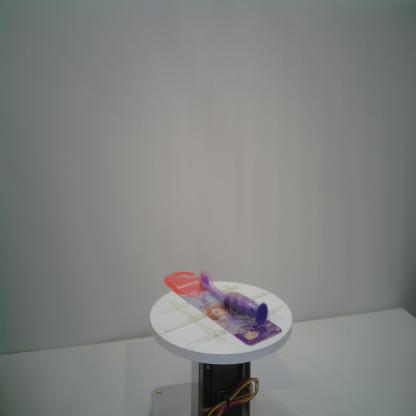Personal Hygiene: (164, 268, 282, 346)
